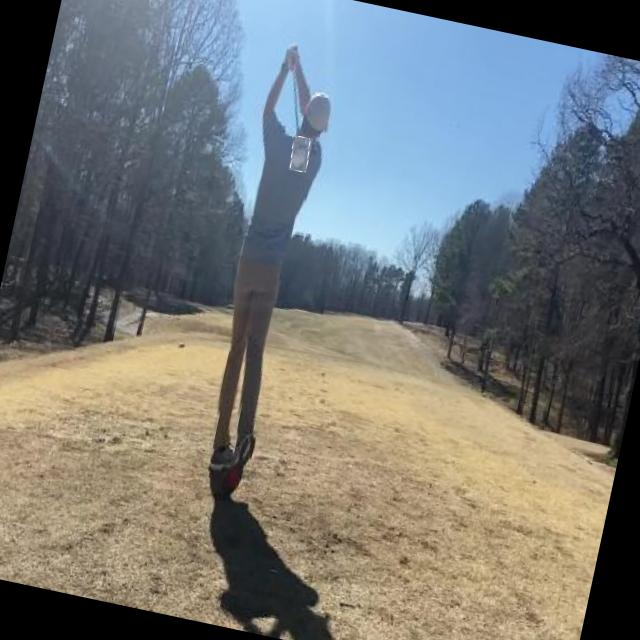club head: (288, 134, 312, 172)
